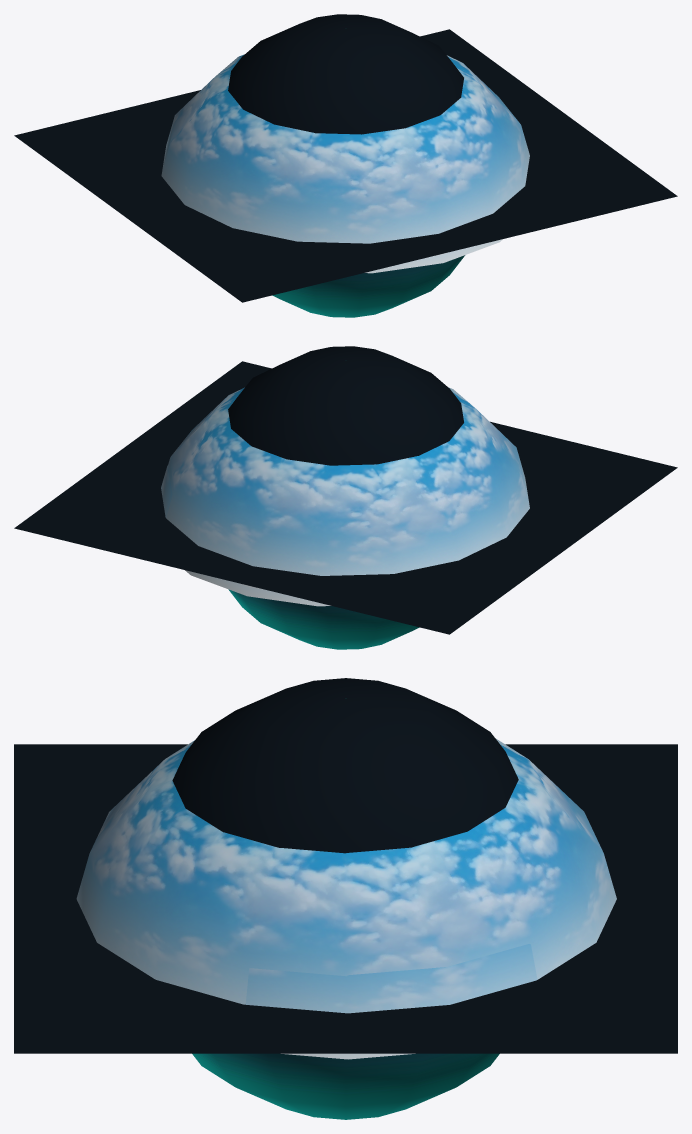
The model's file is BattleArea_1010001.fbx.
3 renders of one model, top to bottom at view 1: azimuth 30°, elevation 25°; view 2: azimuth 150°, elevation 25°; view 3: azimuth 270°, elevation 25°, orthographic. The views are drawn at different scales.
Parts seen in each view (by area): view 1: sky_01_001 (×2), skillbg_02, skillbg_01; view 2: sky_01_001 (×2), skillbg_02, skillbg_01; view 3: sky_01_001 (×2), skillbg_02, skillbg_01.
Part boxes in pixels (x1,y1,x2,y2): sky_01_001 (×2): [161, 54, 529, 273]; skillbg_02: [14, 29, 677, 302]; skillbg_01: [228, 14, 465, 317]; sky_01_001 (×2): [161, 387, 529, 606]; skillbg_02: [14, 361, 677, 634]; skillbg_01: [228, 346, 463, 649]; sky_01_001 (×2): [76, 738, 616, 1059]; skillbg_02: [14, 744, 677, 1053]; skillbg_01: [172, 678, 518, 1119].
Bounding box in the file's own units: 310 × 187 × 281.
